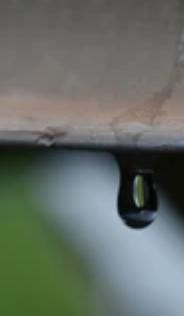water drop: (112, 147, 162, 230)
